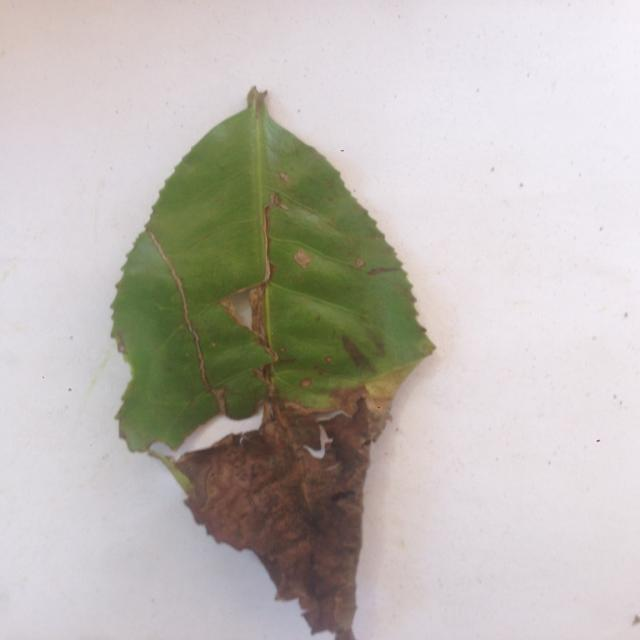Brown Blight: (118, 82, 444, 640)
